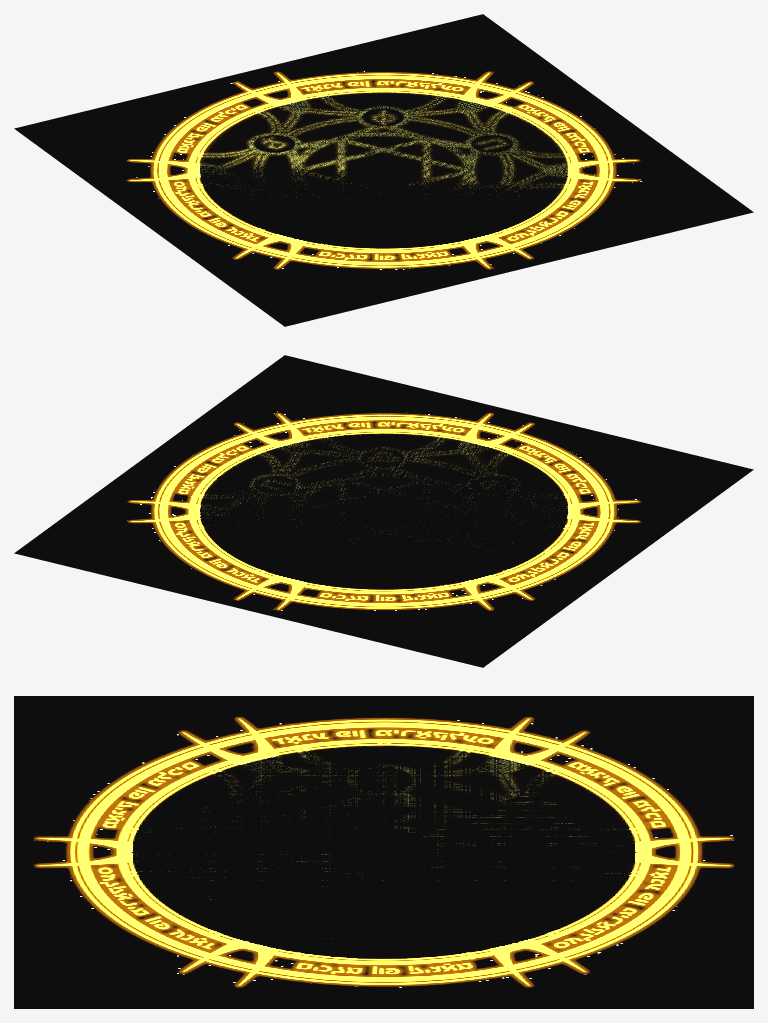
File: portal_anim.gltf
3 renders of one model, top to bottom at view 1: azimuth 30°, elevation 25°; view 2: azimuth 150°, elevation 25°; view 3: azimuth 270°, elevation 25°, orthographic. The views are drawn at different scales.
Parts seen in each view (by area): view 1: Plane.001, Plane.003; view 2: Plane.001, Plane.003; view 3: Plane.001, Plane.003.
Part boxes in pixels (x1=…): Plane.001: x1=14, y1=14, x2=753, y2=326; Plane.003: x1=201, y1=92, x2=567, y2=192; Plane.001: x1=14, y1=355, x2=753, y2=667; Plane.003: x1=200, y1=434, x2=558, y2=547; Plane.001: x1=14, y1=696, x2=753, y2=1008; Plane.003: x1=140, y1=747, x2=615, y2=899.
Bounding box in the file's own units: 2.48 × 0 × 2.48.
Materials: 2 (2 with a texture image).
